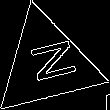N_W: (18, 38, 76, 90)
